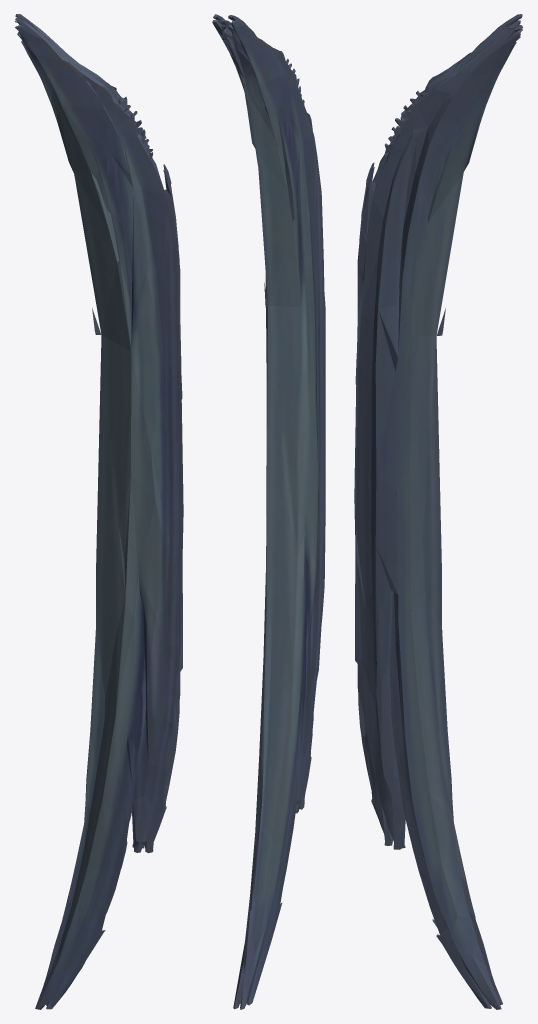
Rendered from nerith_f-meche-1-deux-meches.glb.
The picture shows the model from 3 angles, left to right: view 1: azimuth 90°, elevation 25°; view 2: azimuth 150°, elevation 25°; view 3: azimuth 270°, elevation 25°; orthographic projection.
Visible parts, largest first — view 1: geometry_0; view 2: geometry_0; view 3: geometry_0.
Boxes of the visible parts, x1,y1,x2,y2 form: geometry_0: [15, 14, 183, 1009]; geometry_0: [212, 14, 325, 1009]; geometry_0: [354, 14, 523, 1009].
Bounding box in the file's own units: 0.0773 × 1.9 × 0.294.
1 material, 1 textured.
